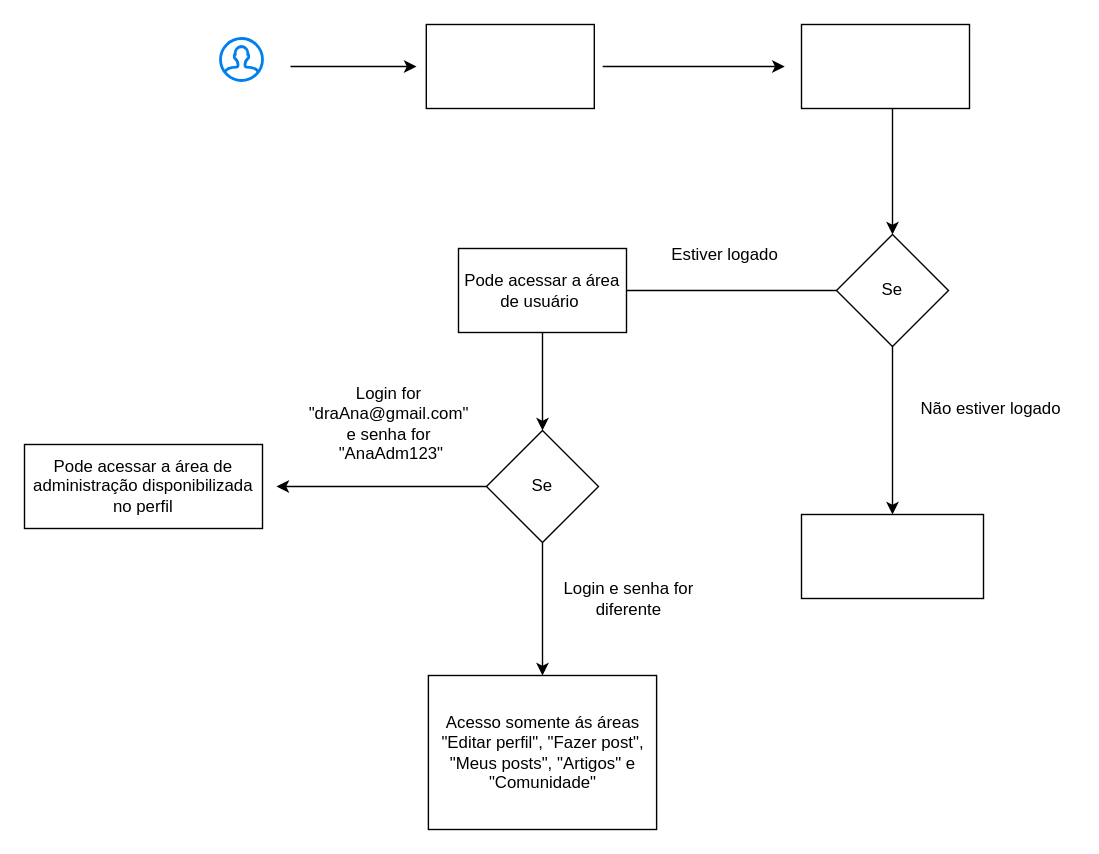
This 1099x854 diagram has some shape labels left out. The centre of each missing label's shape, as x and y in pixels:
Acessar site: point 509,65
Navegar pelo site: point 884,65
Só pode visualizar as postagens e artigos: point 891,555
